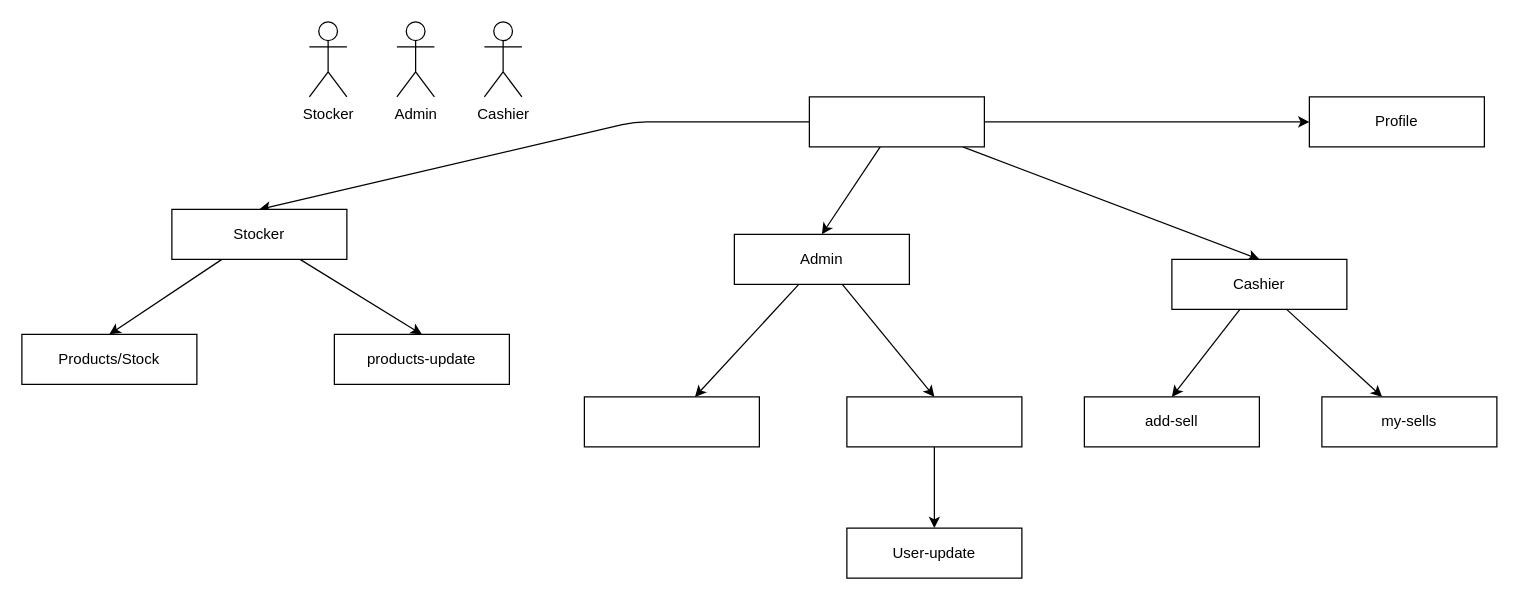
The diagram is 1519 pixels wide and 600 high, and some of its shapes have lost their labels. Here are the shapes that lost their labels. From the top down, the box of each, then its label:
(808, 96, 984, 147): Login
(583, 396, 759, 447): Sells
(846, 396, 1022, 447): User
